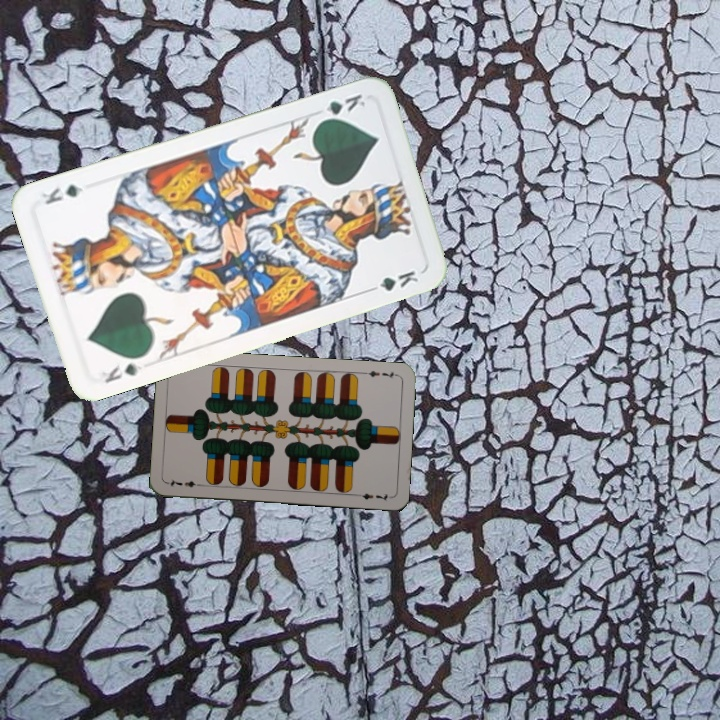E7: (164, 475, 205, 490), (359, 366, 400, 381)
GK: (311, 90, 369, 125), (92, 359, 145, 386)
